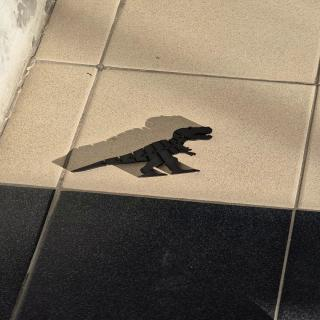dino: (70, 126, 214, 178)
